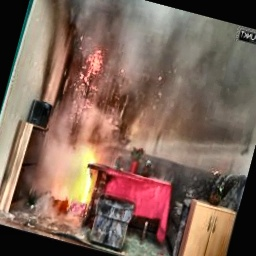fire: (52, 137, 116, 212)
smoke: (58, 0, 210, 157)
